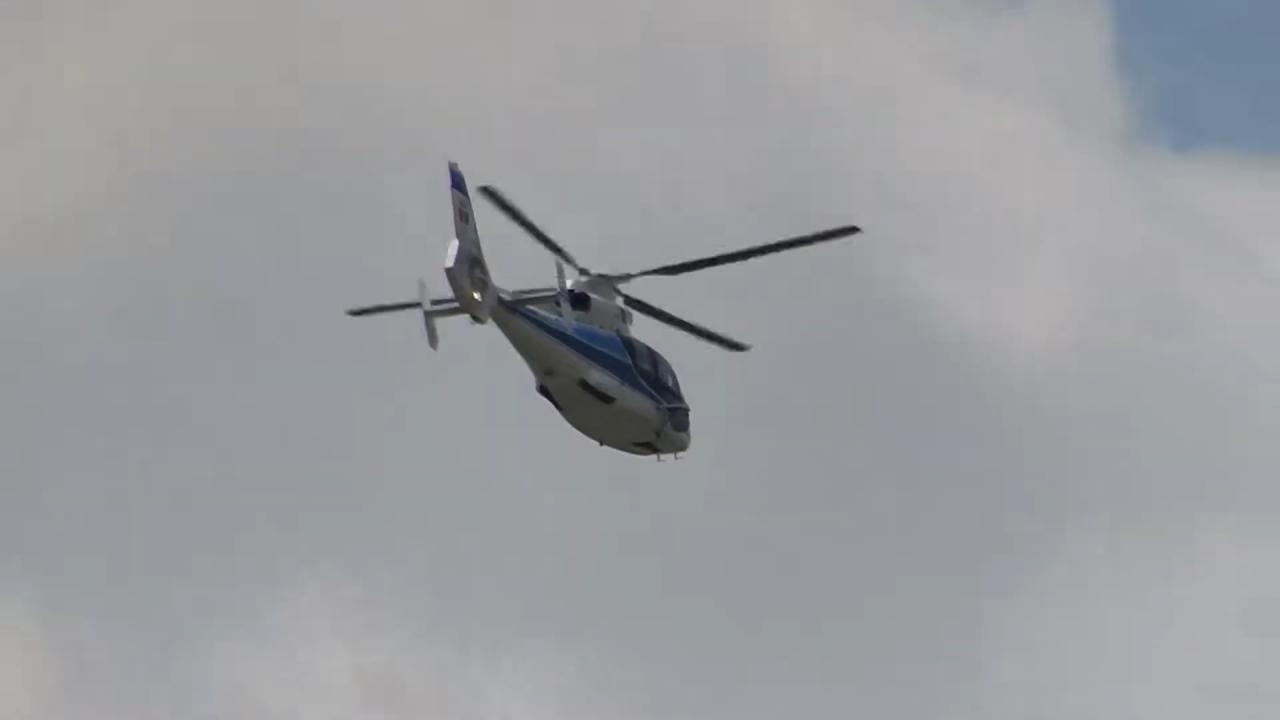Helicopter: (334, 154, 877, 473)
